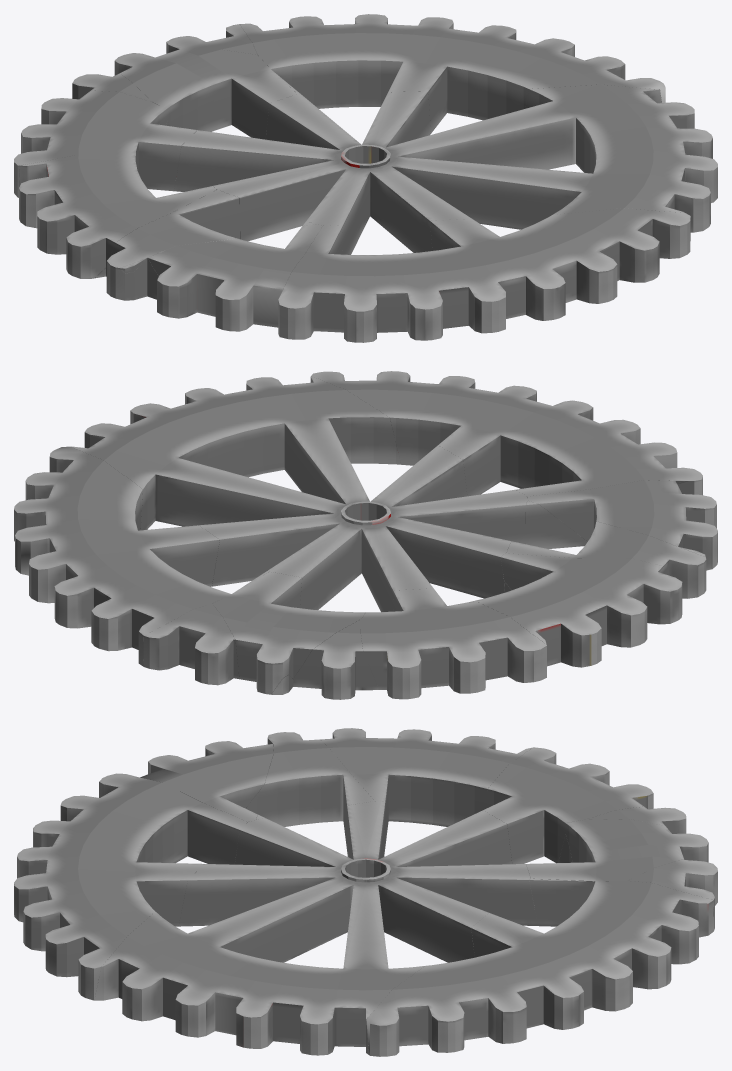
Rendered from gear_fractured.glb.
3 renders of one model, top to bottom at view 1: azimuth 30°, elevation 25°; view 2: azimuth 150°, elevation 25°; view 3: azimuth 270°, elevation 25°, orthographic.
Parts seen in each view (by area): view 1: Circle_cell.007, Circle_cell.006, Circle_cell.003, Circle_cell.004, Circle_cell.002, Circle_cell, Circle_cell.005, Circle_cell.012, Circle_cell.009, Circle_cell.001; view 2: Circle_cell.007, Circle_cell.003, Circle_cell.006, Circle_cell.004, Circle_cell.005, Circle_cell, Circle_cell.002, Circle_cell.009, Circle_cell.012, Circle_cell.001, Circle_cell.008; view 3: Circle_cell.007, Circle_cell.003, Circle_cell.006, Circle_cell.004, Circle_cell.005, Circle_cell.012, Circle_cell, Circle_cell.002, Circle_cell.011, Circle_cell.009, Circle_cell.001.
Part boxes in pixels (x1=…): Circle_cell.007: x1=174, y1=84, x2=717, y2=254; Circle_cell.006: x1=278, y1=208, x2=690, y2=342; Circle_cell.003: x1=240, y1=14, x2=665, y2=133; Circle_cell.004: x1=19, y1=154, x2=216, y2=278; Circle_cell.002: x1=148, y1=224, x2=322, y2=331; Circle_cell: x1=114, y1=49, x2=297, y2=139; Circle_cell.005: x1=14, y1=90, x2=197, y2=197; Circle_cell.012: x1=95, y1=190, x2=239, y2=300; Circle_cell.009: x1=166, y1=24, x2=257, y2=54; Circle_cell.001: x1=72, y1=73, x2=169, y2=125; Circle_cell.007: x1=71, y1=376, x2=527, y2=611; Circle_cell.003: x1=14, y1=446, x2=230, y2=666; Circle_cell.006: x1=311, y1=371, x2=702, y2=496; Circle_cell.004: x1=475, y1=553, x2=682, y2=667; Circle_cell.005: x1=361, y1=588, x2=546, y2=699; Circle_cell: x1=212, y1=572, x2=365, y2=694; Circle_cell.002: x1=527, y1=480, x2=717, y2=570; Circle_cell.009: x1=143, y1=603, x2=239, y2=685; Circle_cell.012: x1=504, y1=521, x2=706, y2=598; Circle_cell.001: x1=271, y1=619, x2=378, y2=699; Circle_cell.008: x1=525, y1=501, x2=587, y2=548; Circle_cell.007: x1=94, y1=801, x2=537, y2=1055; Circle_cell.003: x1=366, y1=881, x2=713, y2=1056; Circle_cell.006: x1=14, y1=773, x2=247, y2=1000; Circle_cell.004: x1=320, y1=728, x2=531, y2=832; Circle_cell.005: x1=483, y1=747, x2=653, y2=864; Circle_cell.012: x1=246, y1=732, x2=386, y2=851; Circle_cell: x1=526, y1=819, x2=708, y2=882; Circle_cell.002: x1=140, y1=741, x2=273, y2=821; Circle_cell.011: x1=529, y1=878, x2=594, y2=926; Circle_cell.009: x1=628, y1=859, x2=717, y2=931; Circle_cell.001: x1=558, y1=806, x2=686, y2=862.
Bounding box in the file's own units: 11.91 × 0.9954 × 11.91.
Materials: 1 (1 with a texture image).
